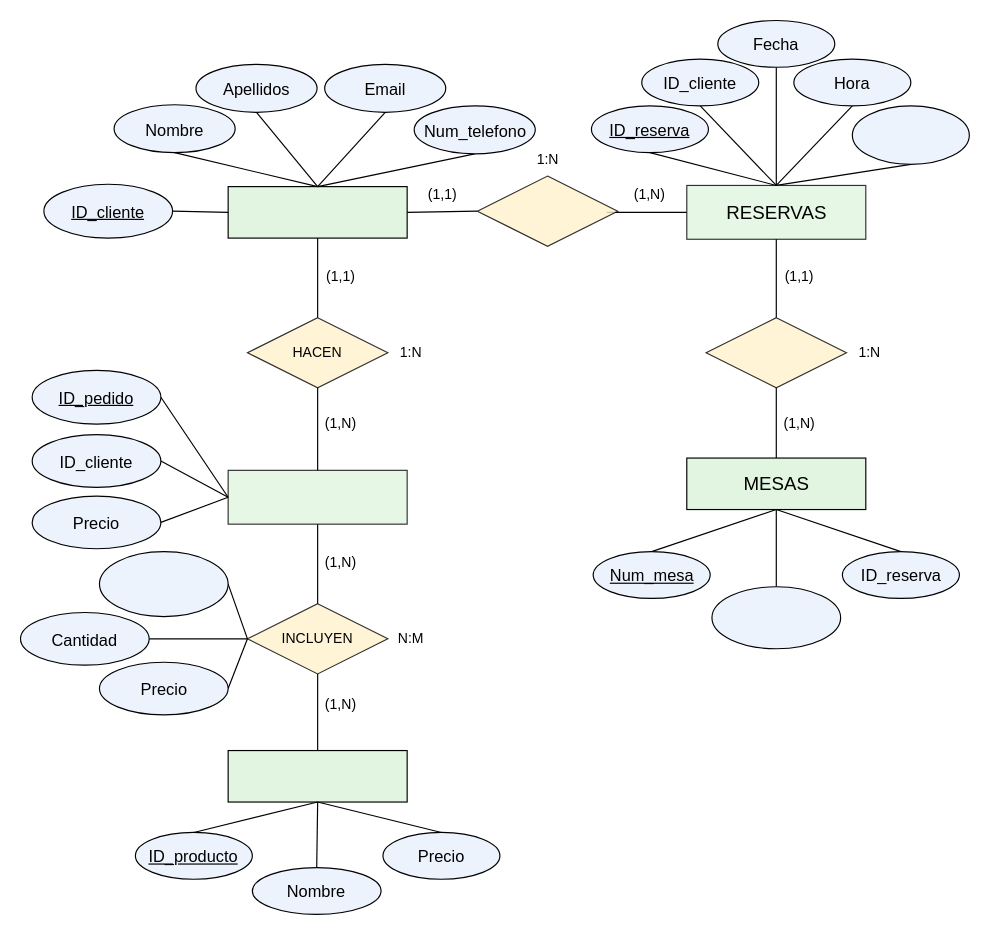
The diagram is 990 pixels wide and 935 high, and some of its shapes have lost their labels. Each missing label, with the box of its shape:
Capacidad_ maxima: (711, 586, 841, 649)
CLIENTES: (227, 185, 407, 238)
Estado: (851, 105, 969, 164)
ID_detalle_ pedido: (98, 550, 228, 617)
NECESITAN: (705, 316, 846, 388)
PEDIDOS: (227, 469, 407, 524)
PRODUCTOS: (227, 749, 407, 802)
REALIZAN: (476, 175, 618, 246)
